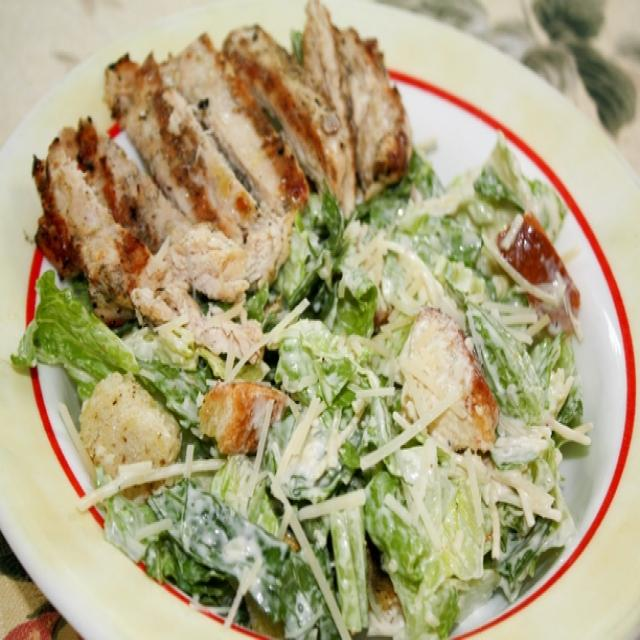蔬菜料理: (14, 10, 608, 621)
